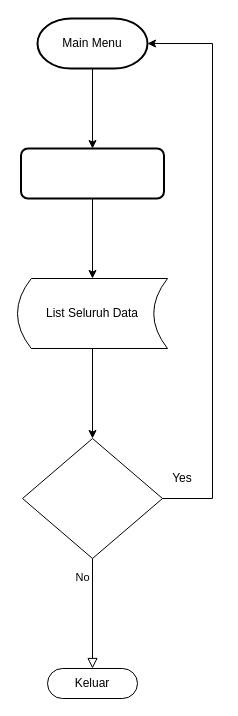
This 238x716 diagram has some shape labels left out. Here are the shapes that lost their labels. From the top down, the box of each, then its label:
(20, 147, 164, 199): Lihat Seluruh Data
(22, 438, 162, 558): Ingin Melanjutkan ?
